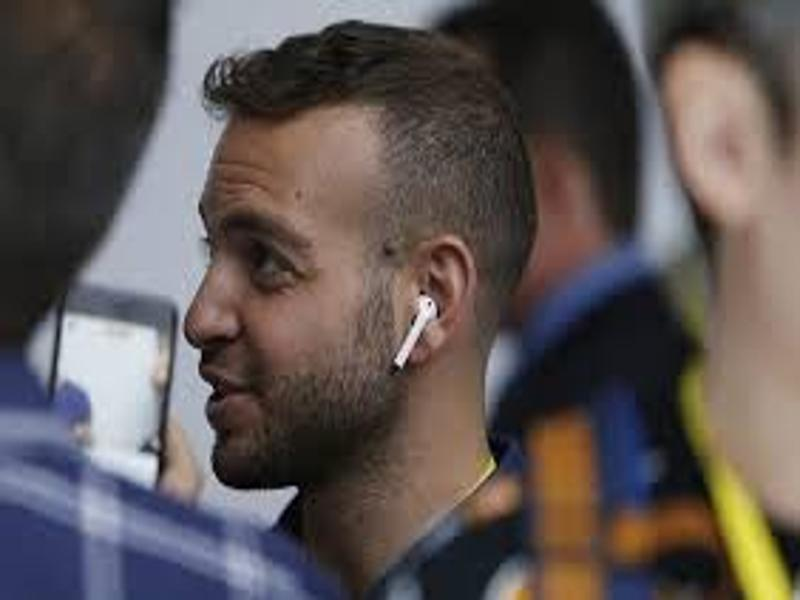headphone: (389, 292, 440, 368)
